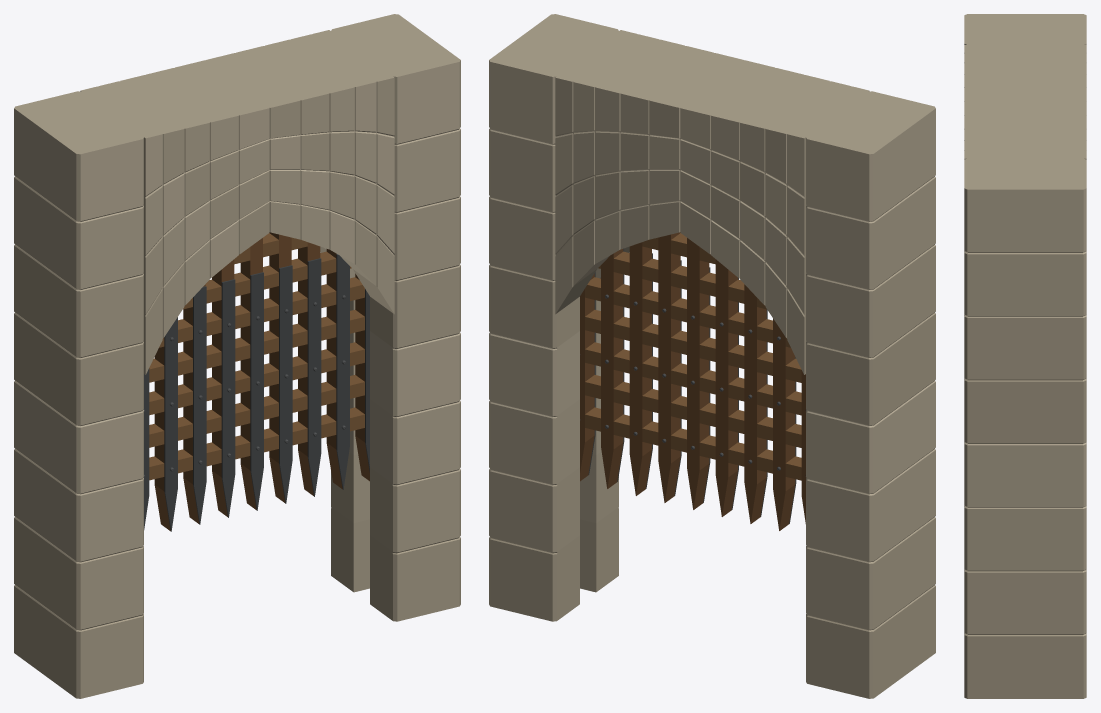
File: NEW448_portcullis_module_LOD0.glb
3 views of the same model, side by side, from view 1: azimuth 30°, elevation 25°; view 2: azimuth 150°, elevation 25°; view 3: azimuth 270°, elevation 25° (orthographic). The views are drawn at different scales.
Parts seen in each view (by area): view 1: Stone_Jamb_Left, Stone_Jamb_Right, Stone_Receiving_Front, Grille_Closed_Oak_Lattice, Stone_Receiving_Reverse, Stone_Receiving_Top_Cap, Facing_Iron_04, Facing_Iron_07, Facing_Iron_05, Facing_Iron_06, Facing_Iron_03, Facing_Iron_08 (+3 smaller); view 2: Stone_Jamb_Left, Stone_Jamb_Right, Stone_Receiving_Reverse, Grille_Closed_Oak_Lattice, Stone_Receiving_Front, Stone_Receiving_Top_Cap; view 3: Stone_Jamb_Right, Stone_Receiving_Front, Stone_Receiving_Reverse, Stone_Receiving_Top_Cap, Stone_Jamb_Left.
Boxes of the visible parts, x1,y1,x2,y2 form: Stone_Jamb_Left: [14, 91, 143, 698]; Stone_Jamb_Right: [331, 14, 460, 621]; Stone_Receiving_Front: [121, 60, 394, 374]; Grille_Closed_Oak_Lattice: [149, 232, 369, 530]; Stone_Receiving_Reverse: [80, 30, 353, 278]; Stone_Receiving_Top_Cap: [88, 43, 386, 124]; Facing_Iron_04: [221, 279, 235, 517]; Facing_Iron_07: [307, 258, 321, 496]; Facing_Iron_05: [250, 272, 263, 510]; Facing_Iron_06: [279, 265, 292, 503]; Facing_Iron_03: [193, 286, 206, 524]; Facing_Iron_08: [336, 254, 349, 489]; Stone_Jamb_Left: [806, 91, 935, 698]; Stone_Jamb_Right: [489, 14, 618, 621]; Stone_Receiving_Reverse: [555, 60, 828, 374]; Grille_Closed_Oak_Lattice: [580, 232, 806, 530]; Stone_Receiving_Front: [596, 30, 869, 278]; Stone_Receiving_Top_Cap: [563, 43, 861, 124]; Stone_Jamb_Right: [964, 158, 1086, 698]; Stone_Receiving_Front: [964, 45, 1010, 159]; Stone_Receiving_Reverse: [1040, 45, 1086, 159]; Stone_Receiving_Top_Cap: [1010, 37, 1040, 166]; Stone_Jamb_Left: [964, 14, 1086, 44].
Size of the model in its own units: 4.25 by 5.75 by 1.25.
